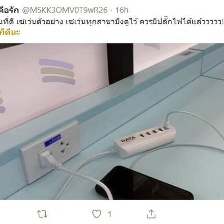three_eye_plug: (14, 114, 83, 185), (110, 120, 178, 161)
